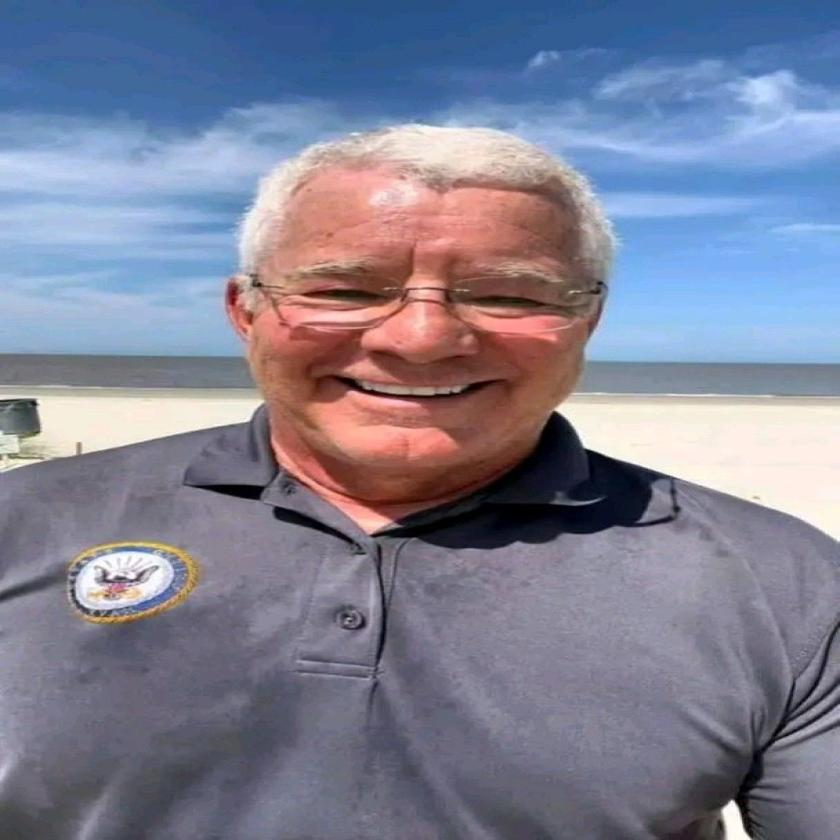Sin_casco: (226, 126, 633, 496)
